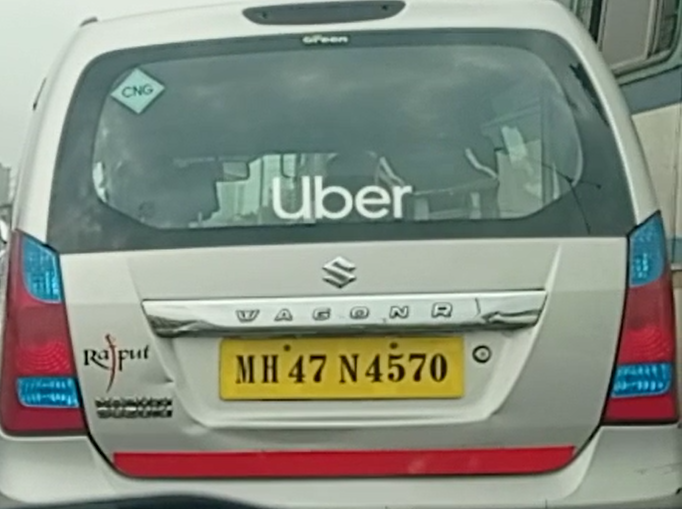MH47N4570: (218, 332, 469, 403)
